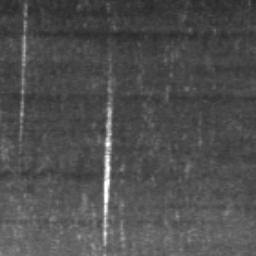Bright scratch: (18, 0, 28, 153), (104, 78, 112, 245)
